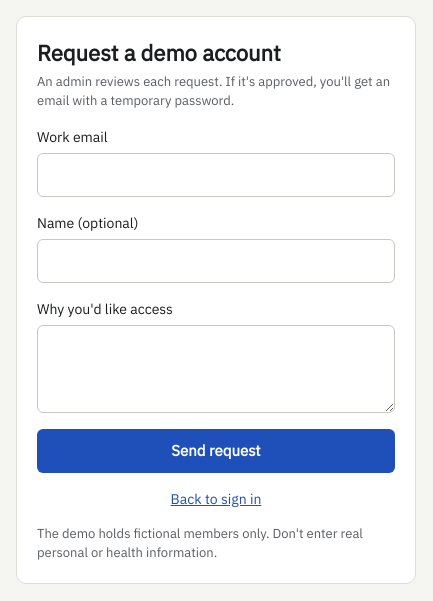
Scenario: RequestAccess › sends the request and says what happens next
This screenshot has width=433, height=601.
Type "r@example.com" into the field labelled "Work email" at (216, 175), box [37, 153, 395, 197]
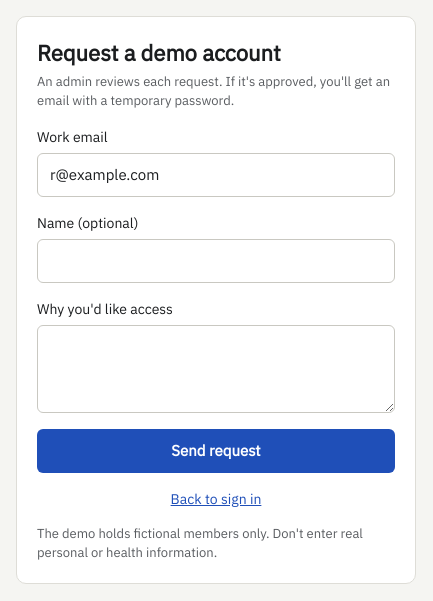
Type "Grading" into the text box labelled "Why you'd like access" at (216, 369), box [37, 325, 395, 413]
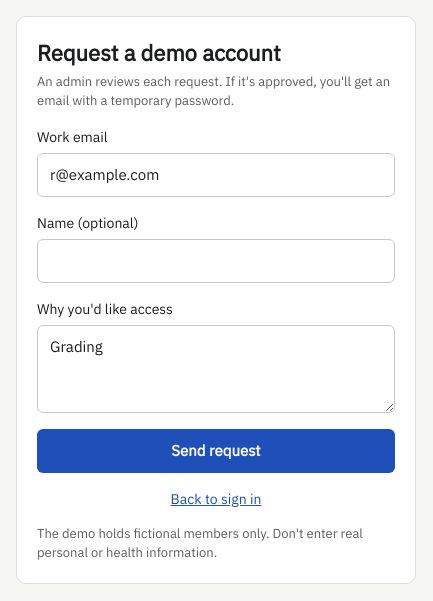
Click the button "Send request" at (216, 451), box [37, 429, 395, 473]
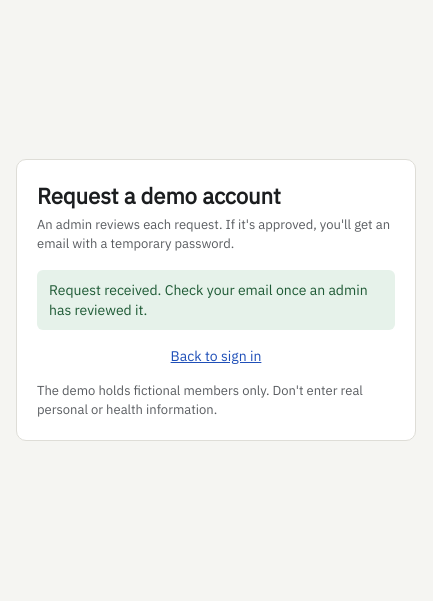
Expected: the text "Request received. Check your email once an admin has reviewed it." is shown, [37, 270, 395, 330]
